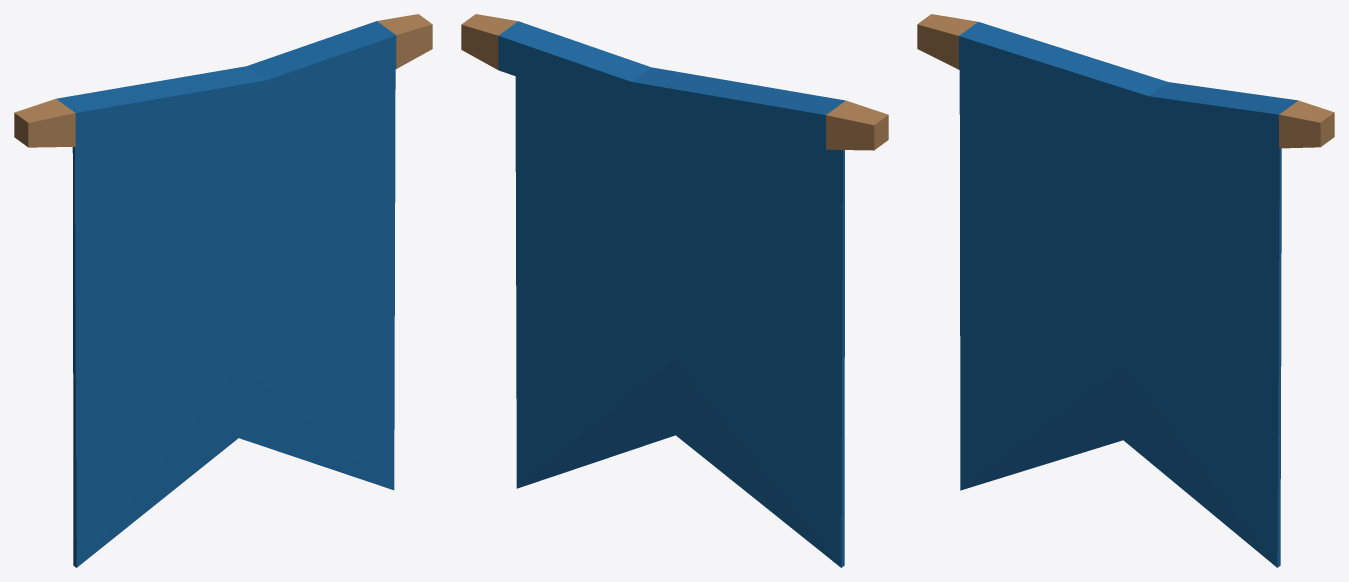
File: banner_blue.fbx
3 renders of one model, left to right at view 1: azimuth 30°, elevation 25°; view 2: azimuth 150°, elevation 25°; view 3: azimuth 330°, elevation 25°, orthographic. The views are drawn at different scales.
Visible parts, largest first — view 1: banner_blue; view 2: banner_blue; view 3: banner_blue.
Part boxes in pixels (x1,y1,x2,y2): banner_blue: [14, 14, 432, 567]; banner_blue: [461, 14, 888, 567]; banner_blue: [917, 14, 1334, 567].
Size of the model in its own units: 127 by 136 by 10.59.
